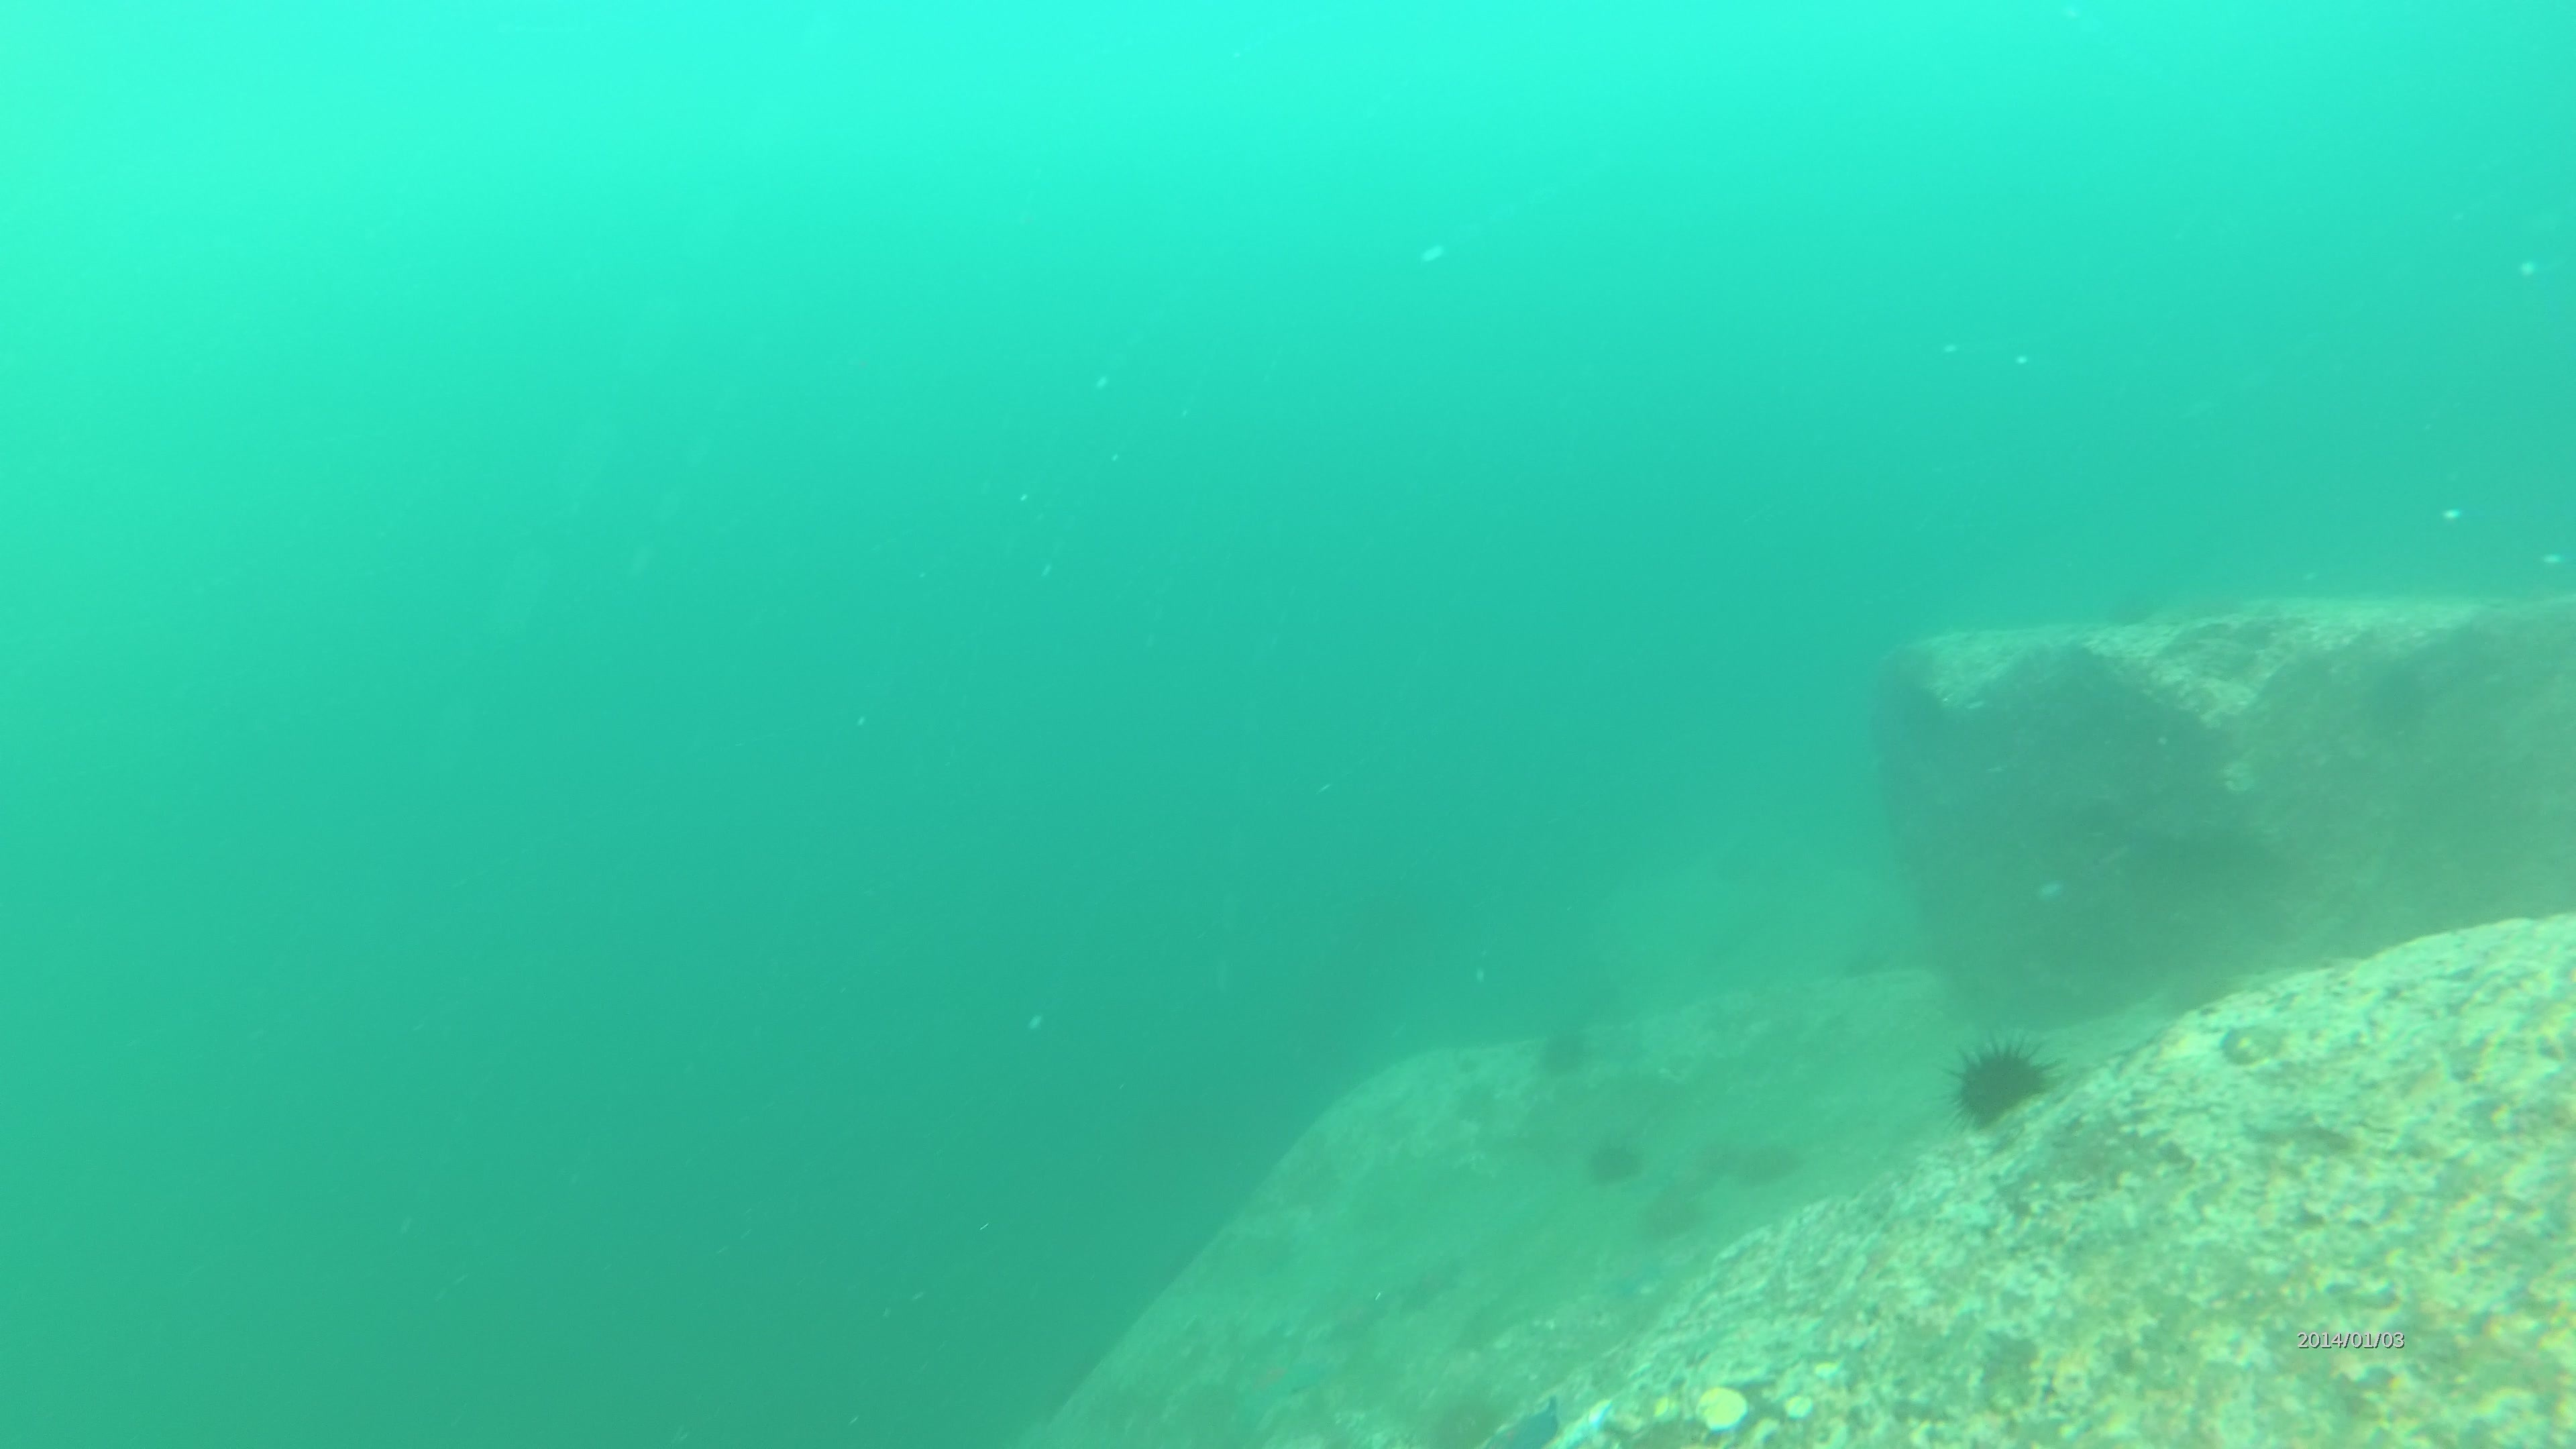echinus: (1943, 1031, 2058, 1132), (1723, 1127, 1806, 1192), (1529, 1014, 1599, 1081), (1580, 1127, 1647, 1191)
starfish: (1488, 1385, 1571, 1447)
